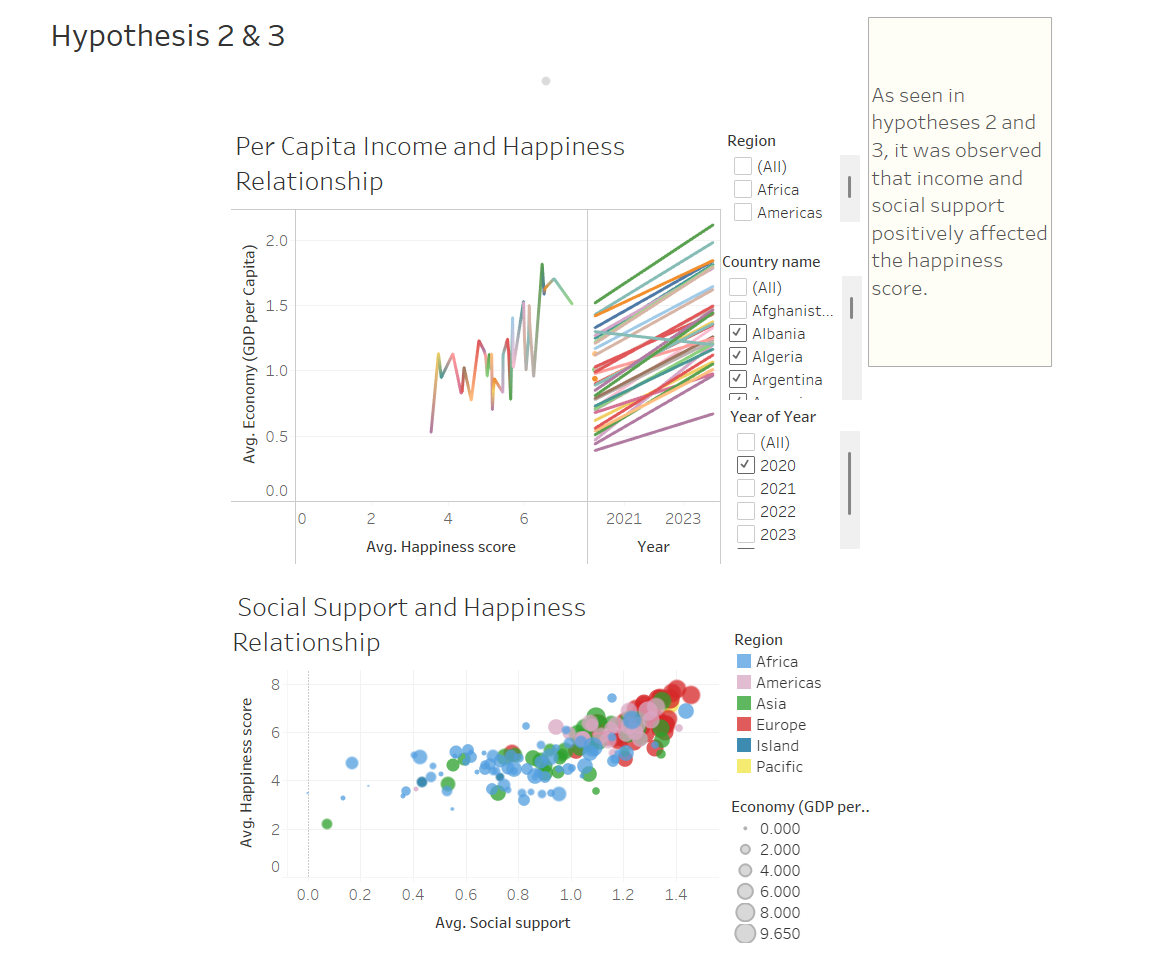

The page's visual inventory and layout, read from the dashboard file:
{"tool":"tableau","page":{"name":"Dashboard 3","canvas":[650,860],"ordinal":2},"visuals":[{"type":"worksheet","title":"Per Capita Income and Happiness Relationship","mark":"Line","rows":["Economy_(GDP_per_Capita)_"],"cols":["Happiness_score","Year"],"box":[9,6.4,490,450.4]},{"type":"filter","title":"Per Capita Income and Happiness Relationship","param":"[federated.1b23h6n1s7urv9188s8hf1c6z70u].[none:Calculation_1024568971831394304:n","box":[501,8.6,141,107.2]},{"type":"filter","title":"Per Capita Income and Happiness Relationship","param":"[federated.1b23h6n1s7urv9188s8hf1c6z70u].[none:Country_name:nk]","box":[500,136.2,140,152.3]},{"type":"filter","title":"Per Capita Income and Happiness Relationship","param":"[federated.1b23h6n1s7urv9188s8hf1c6z70u].[yr:Year:ok]","box":[508,293.8,130,145.8]},{"type":"worksheet","title":" Social Support and Happiness Relationship","mark":"Circle","rows":["Happiness_score"],"cols":["Social_support"],"box":[6,476.1,491,362.4]},{"type":"legend","title":" Social Support and Happiness Relationship","param":"[federated.1b23h6n1s7urv9188s8hf1c6z70u].[none:Calculation_1024568971831394304:n","box":[512,521.2,140,158.7]},{"type":"legend","title":" Social Support and Happiness Relationship","param":"[federated.1b23h6n1s7urv9188s8hf1c6z70u].[sum:Economy_(GDP_per_Capita)_:qk]","box":[509,691.6,140,158.7]}]}

Visuals, with their boxes on the page's 650x860 design canvas (x1, y1, x2, y2). These are canvas units, not pixel positions in the 1152x975 screenshot, which may show the page scaled, cropped or inside an application window:
"Per Capita Income and Happiness Relationship" worksheet (Line marks): BBox(9, 6, 499, 457)
"Per Capita Income and Happiness Relationship" filter: BBox(501, 9, 642, 116)
"Per Capita Income and Happiness Relationship" filter: BBox(500, 136, 640, 288)
"Per Capita Income and Happiness Relationship" filter: BBox(508, 294, 638, 440)
" Social Support and Happiness Relationship" worksheet (Circle marks): BBox(6, 476, 497, 838)
" Social Support and Happiness Relationship" legend: BBox(512, 521, 652, 680)
" Social Support and Happiness Relationship" legend: BBox(509, 692, 649, 850)
